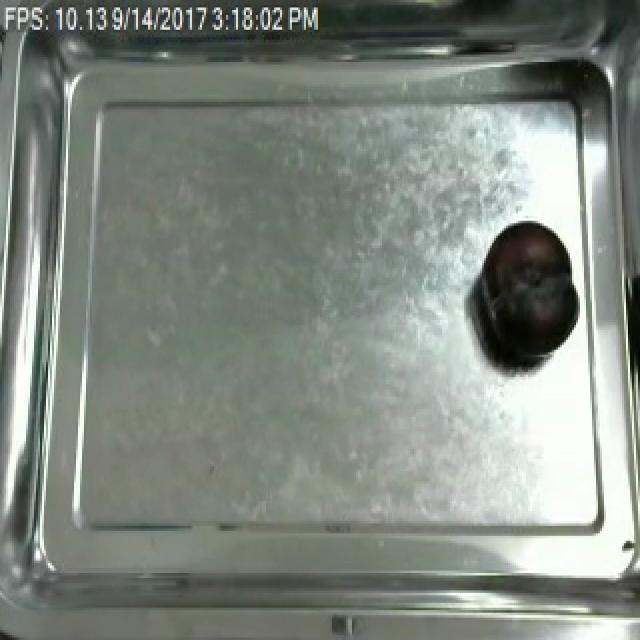Fruit: (474, 216, 584, 372)
